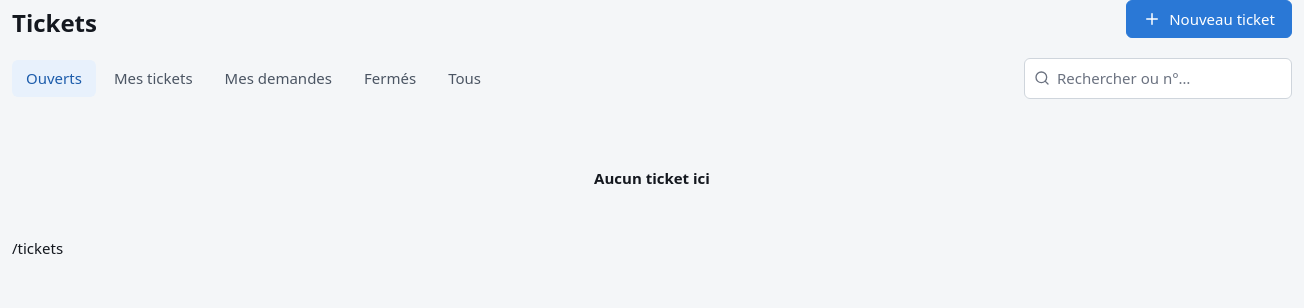
TicketsPage › « Mes demandes » liste les tickets ouverts par l'utilisateur, fermés compris
Step 1. Click the button "Mes demandes" → (278,78), box [211,60,346,96]
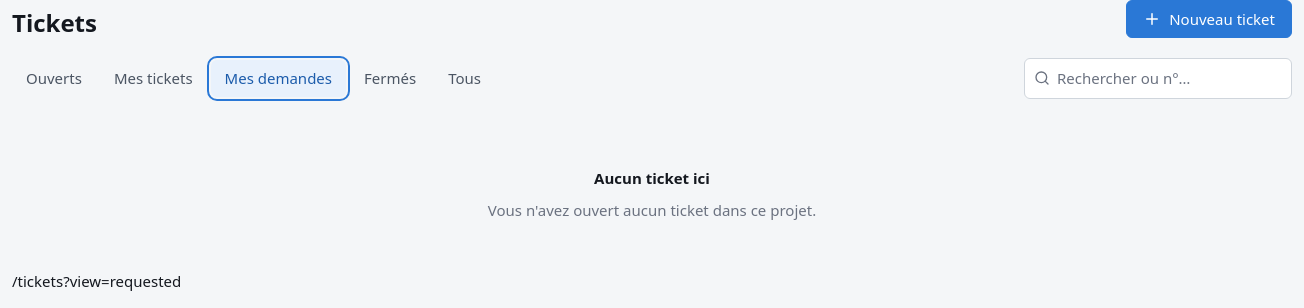
Expected: the text with test id "location" reads "/tickets?view=requested", [12,270,181,290]
Expected: the text "Vous n'avez ouvert aucun ticket dans ce projet." is shown, [488,199,816,222]
